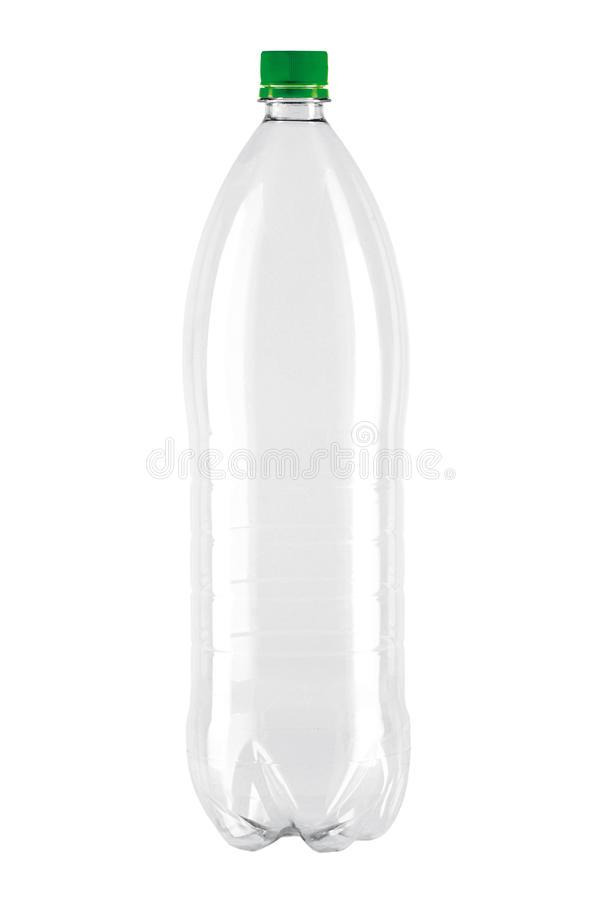plastic_bottle: (181, 44, 421, 854)
